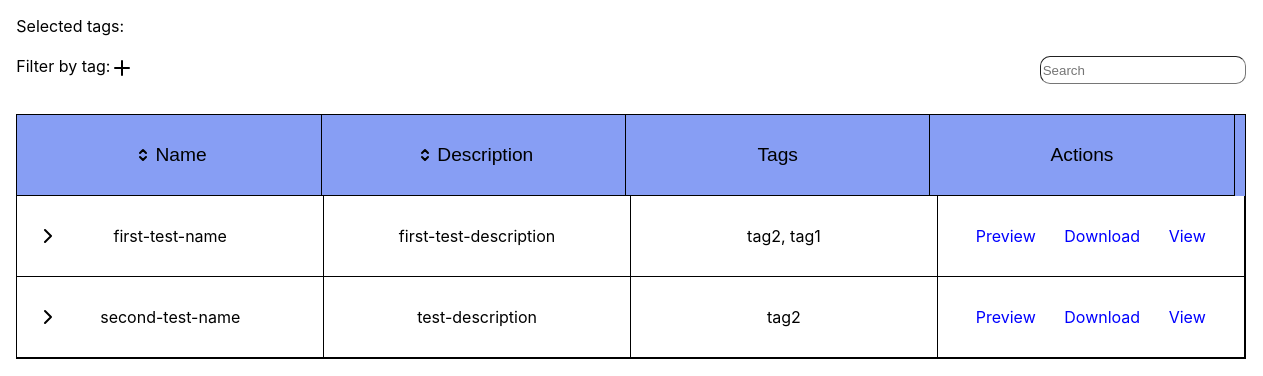
it: filtering by tags › remove filter tag, all models should be displayed
Click the button with alt text "Add tag" next to "Filter by tag:": point(122, 68) [110,56,134,80]
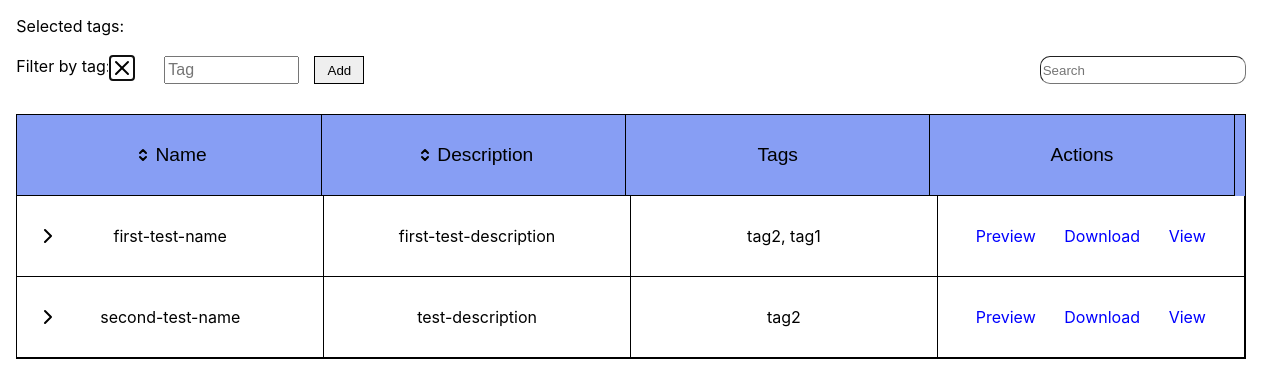
In the field with placeholder "Tag": point(232, 70) [164,56,299,84], type "tag1"
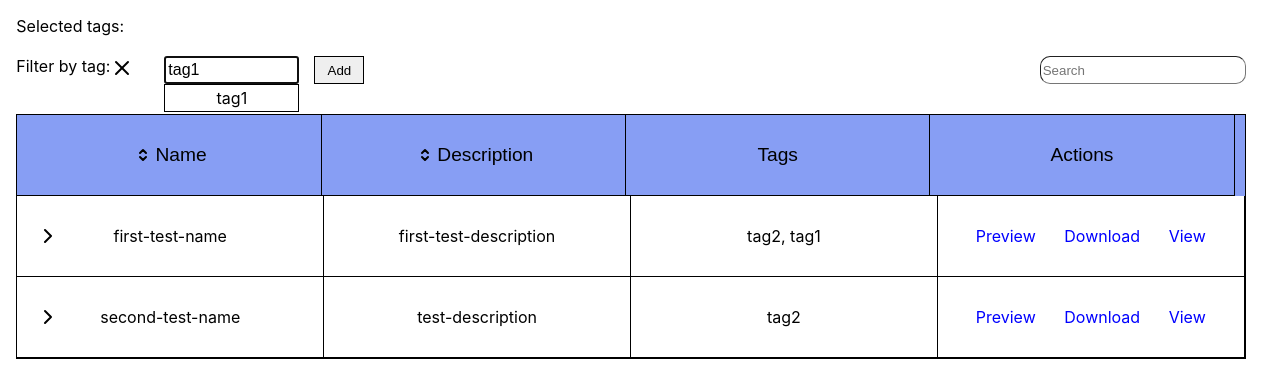
Click the button "Add": point(339, 70) [314,56,364,84]
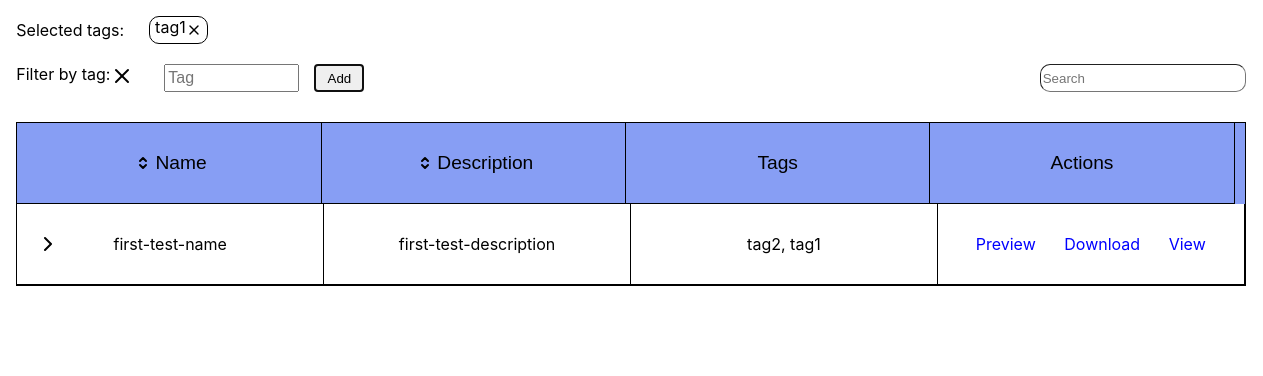
Click the 1st button with alt text "Close": point(194, 30) [186,22,202,38]
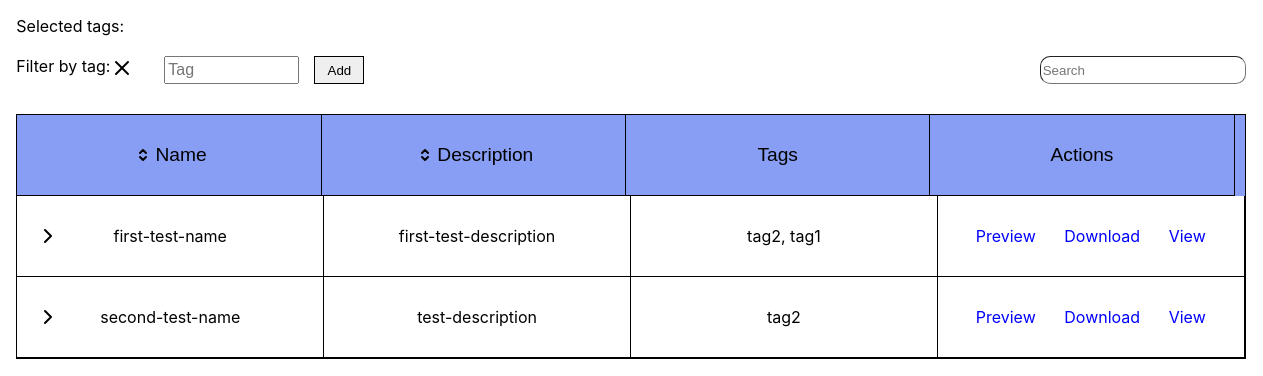
Check: the text "first-test-name" is shown, box [17,196,324,277]
Check: the text "second-test-name" is shown, box [17,277,324,358]
